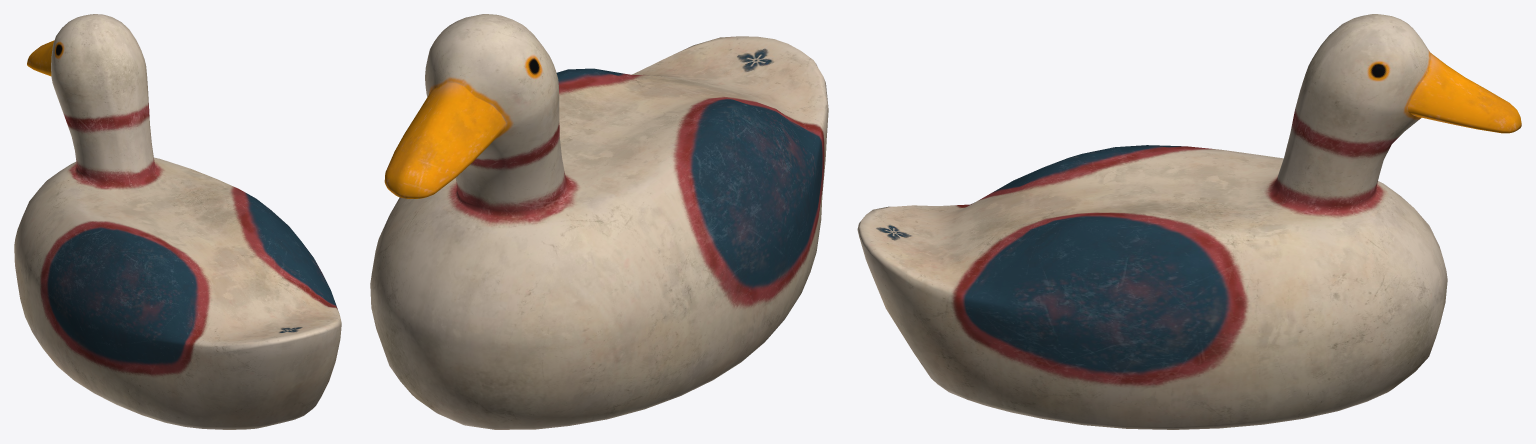
Rendered from clayDuck.gltf.
The picture shows the model from 3 angles, left to right: view 1: azimuth 30°, elevation 25°; view 2: azimuth 150°, elevation 25°; view 3: azimuth 270°, elevation 25°; orthographic projection. The views are drawn at different scales.
Visible parts, largest first — view 1: mid1; view 2: mid1; view 3: mid1.
Boxes of the visible parts, box(x1,y1,x2,y2) form: mid1: box(14, 14, 341, 429); mid1: box(370, 14, 828, 429); mid1: box(857, 14, 1521, 429).
Bounding box in the file's own units: 192 × 221 × 382.
1 material, 1 textured.
